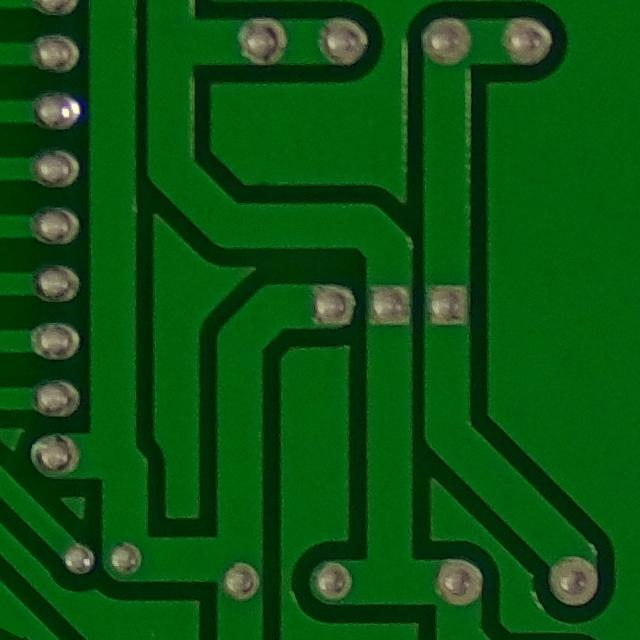spur: (0, 570, 49, 640)
